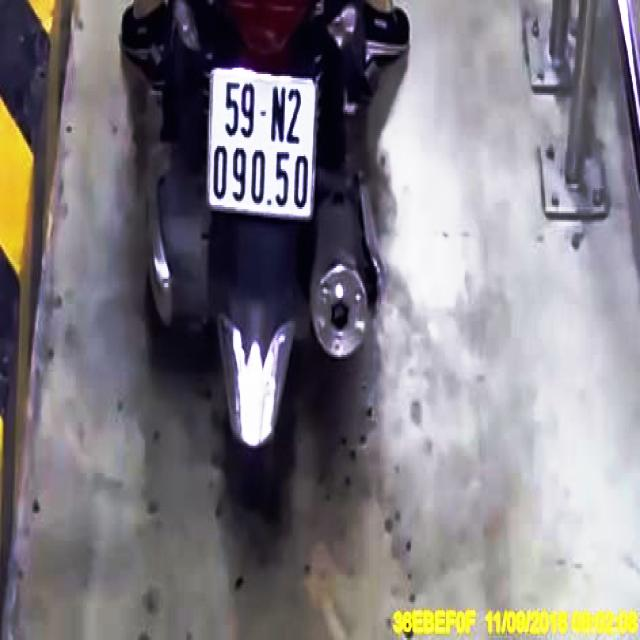license_plate: (209, 71, 318, 216)
